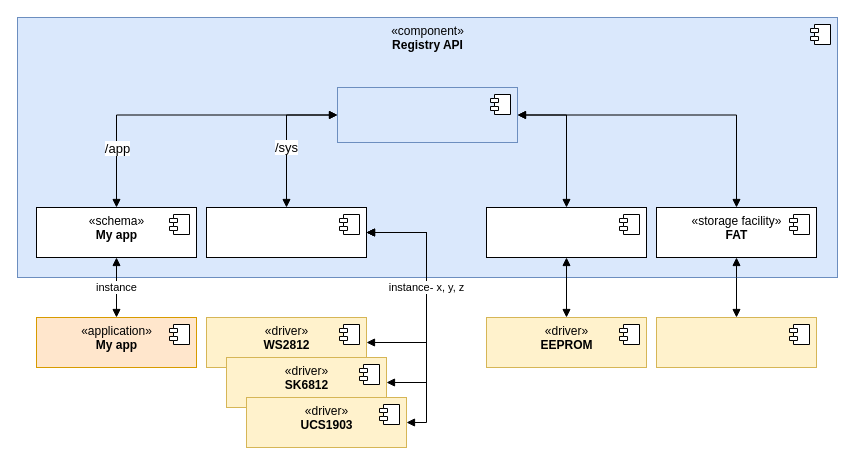
This 855x465 diagram has some shape labels left out. The shapes that lost their labels are listed below. From the top down, each one's centre as x and y in pixels, then its label:
At (427,114): "Registry".
At (286,232): "«schema» LED Strip".
At (566,232): "«storage facility» EEPROM".
At (736,342): "«driver» FAT".
